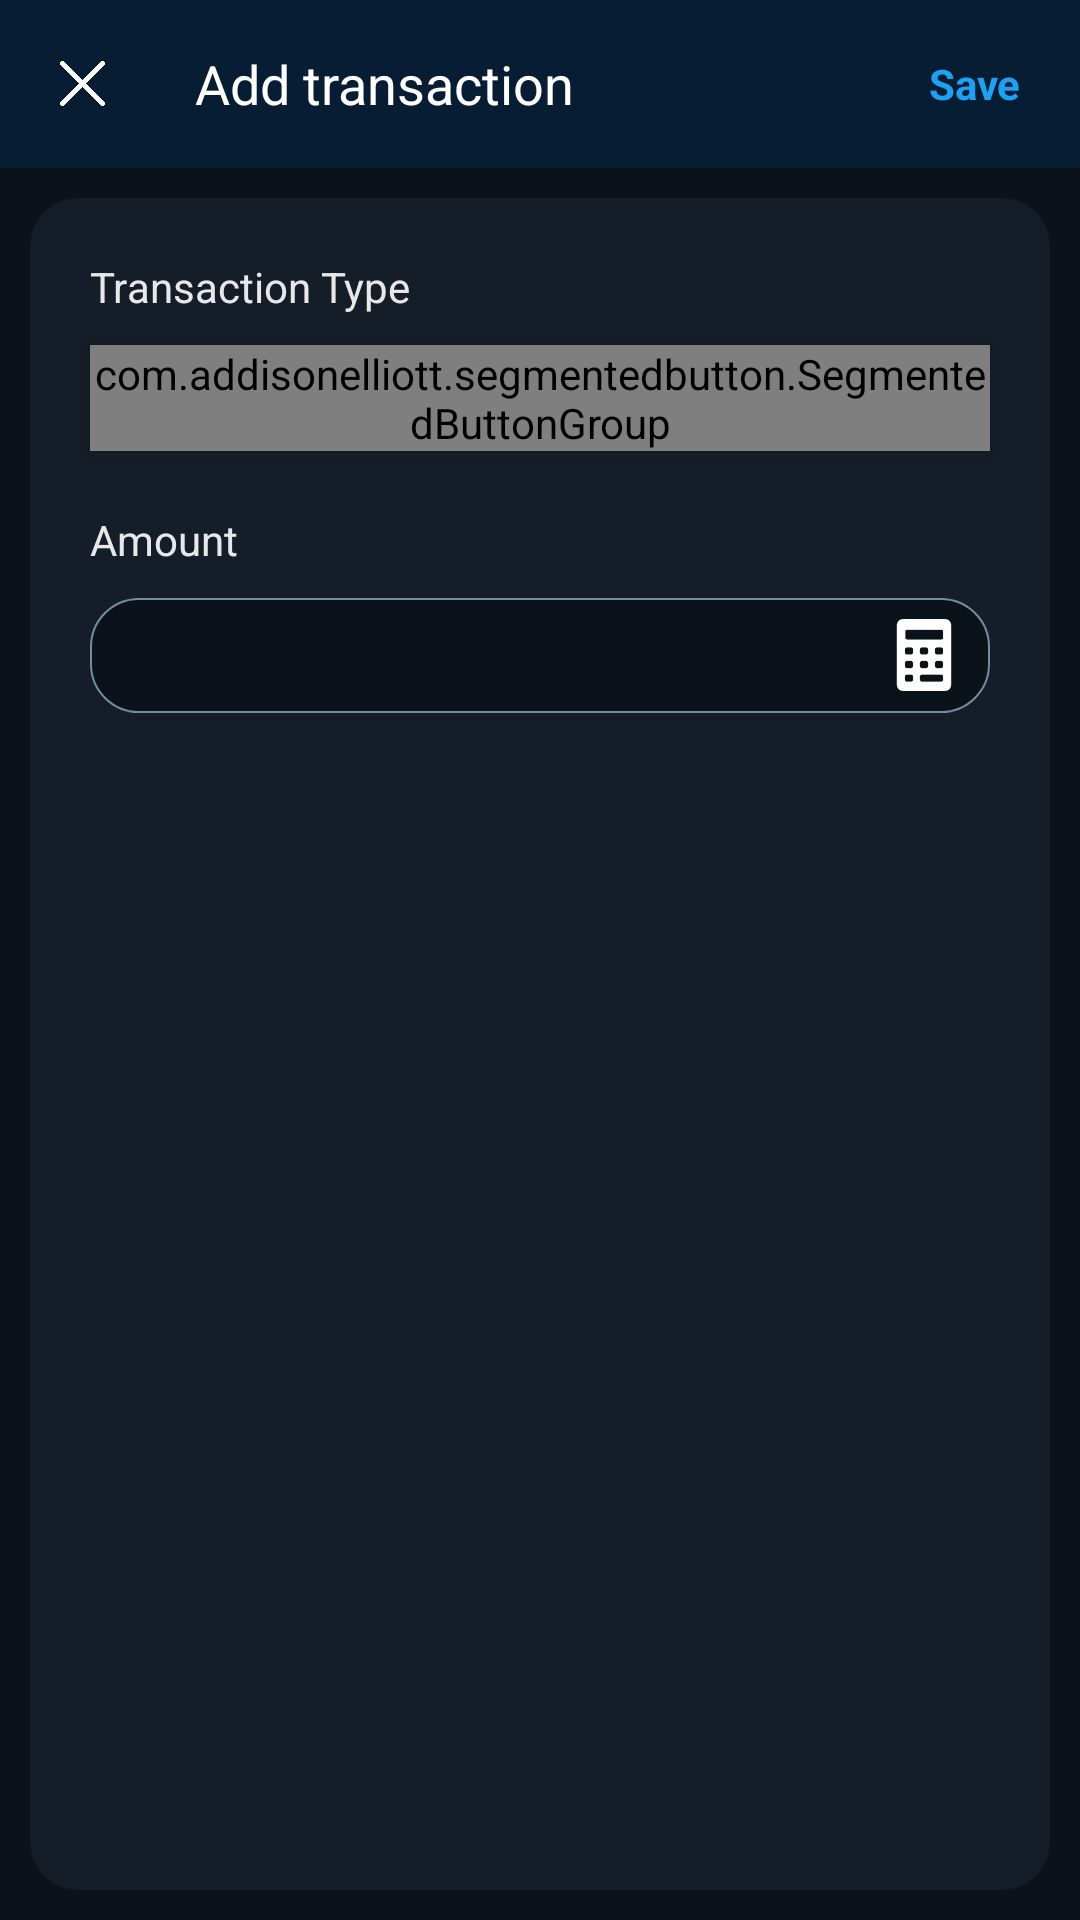

Screen size 1080 x 1920. Icon name, then its box in pixels as bbox=(x1, y1, x2, y2):
Calculator: bbox=(896, 619, 952, 691)
Cancle: bbox=(60, 61, 105, 106)
